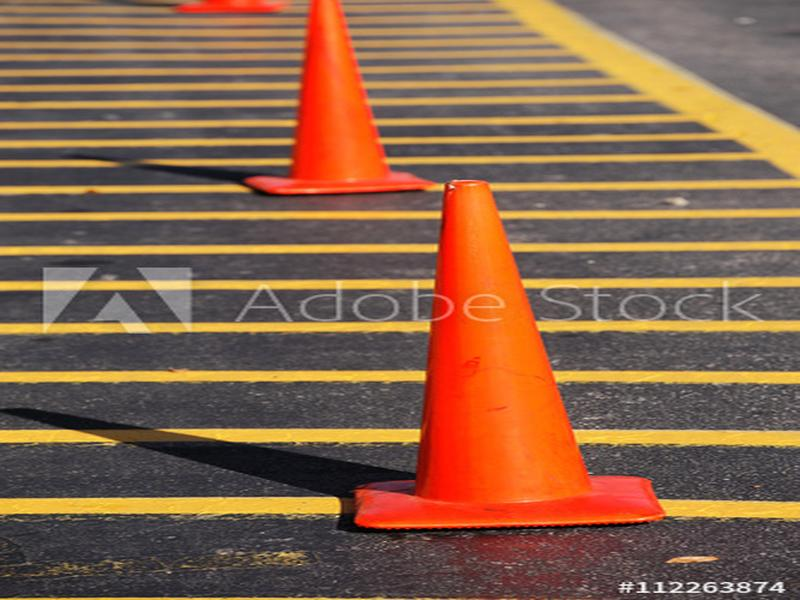Cone1: (353, 179, 670, 531)
